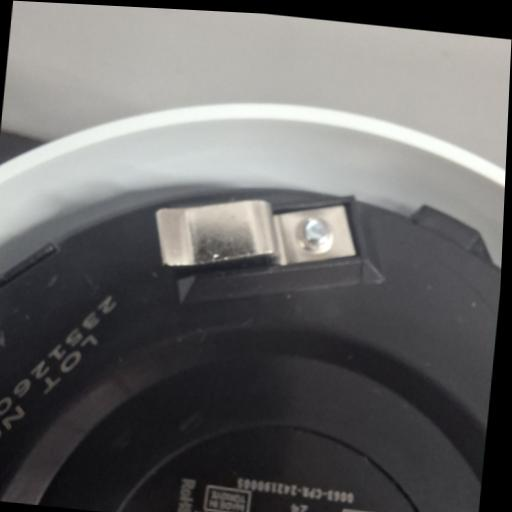yaysiz: (147, 182, 363, 290)
